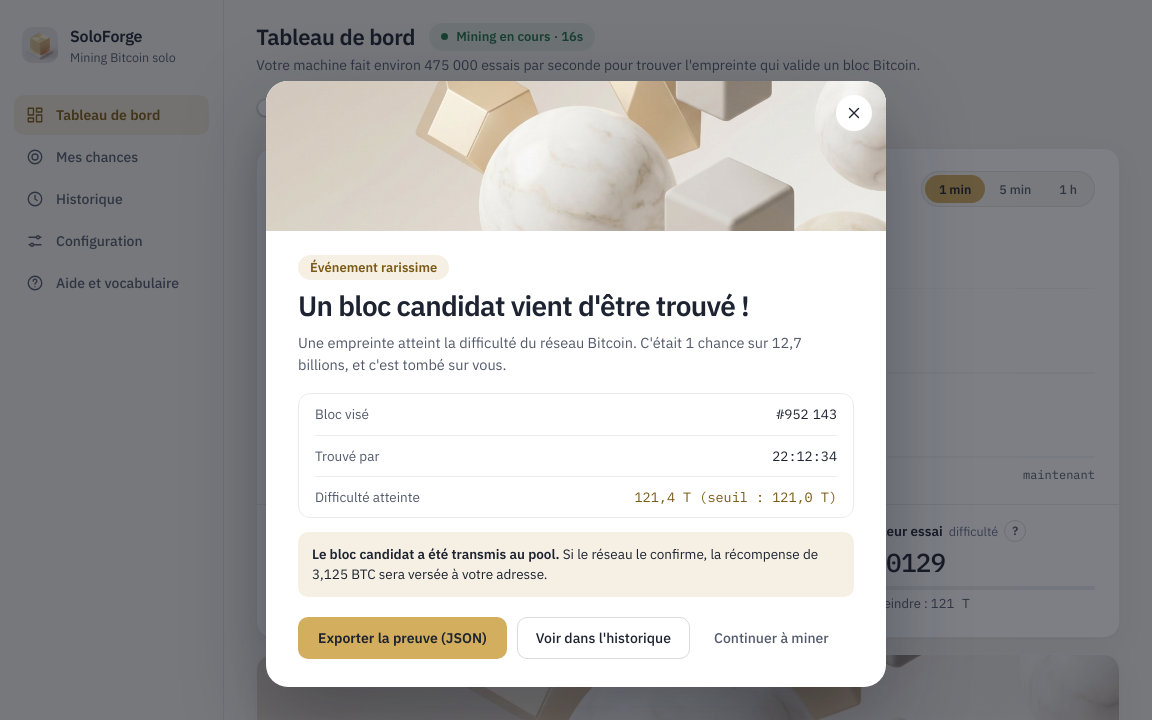
a block candidate › takes the user to the Blocks tab of the history
The width and height of the screenshot is (1152, 720).
Click the button "Voir dans l'historique".
click(603, 638)  # box [517,617,690,659]
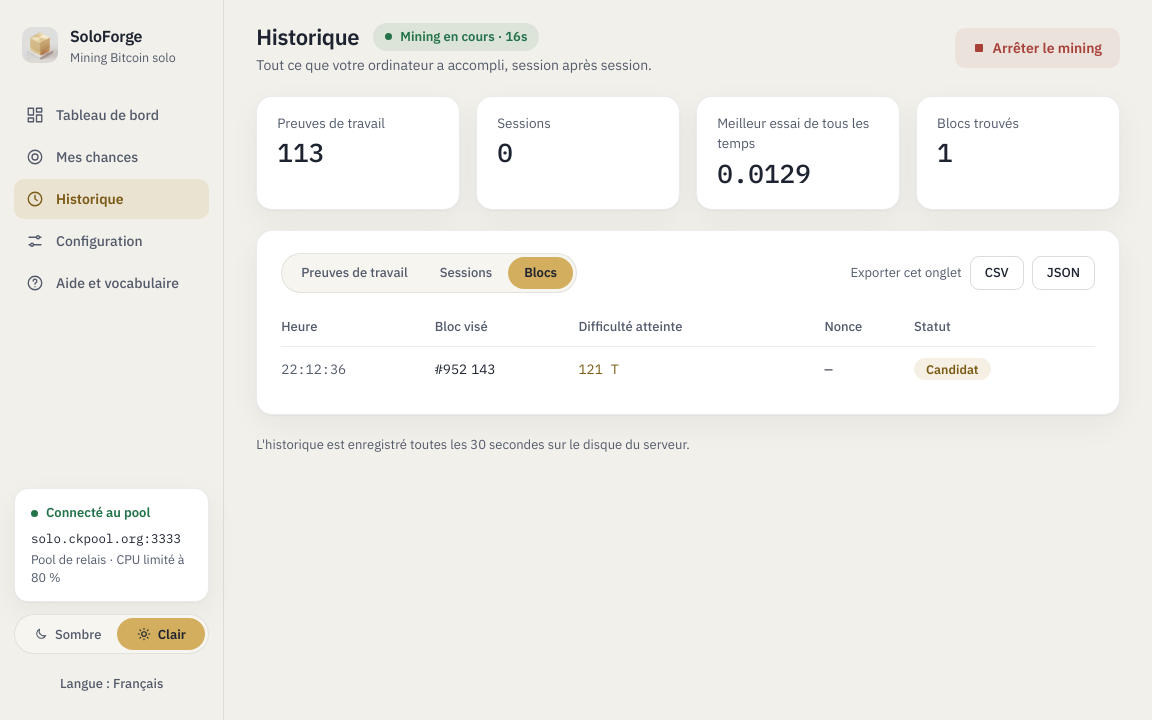
Check: the text "Candidat" is shown, box [914,358,990,380]
Check: the heading "Historique" is shown, box [256,20,359,53]
